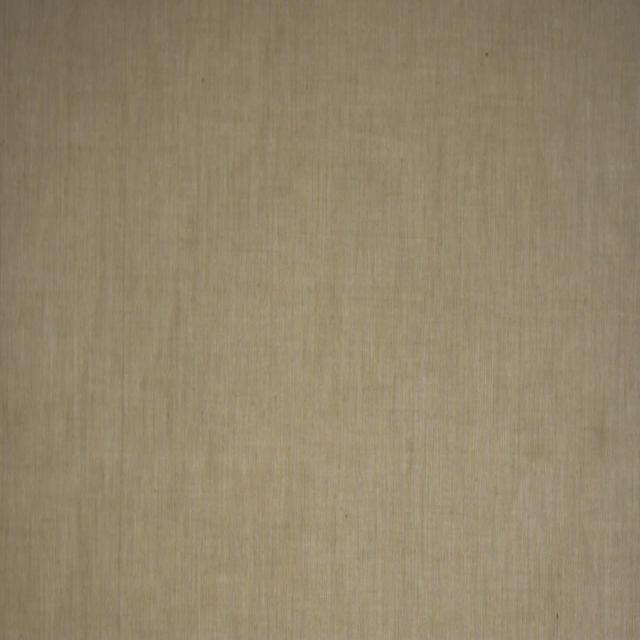dirty: (594, 417, 605, 458)
